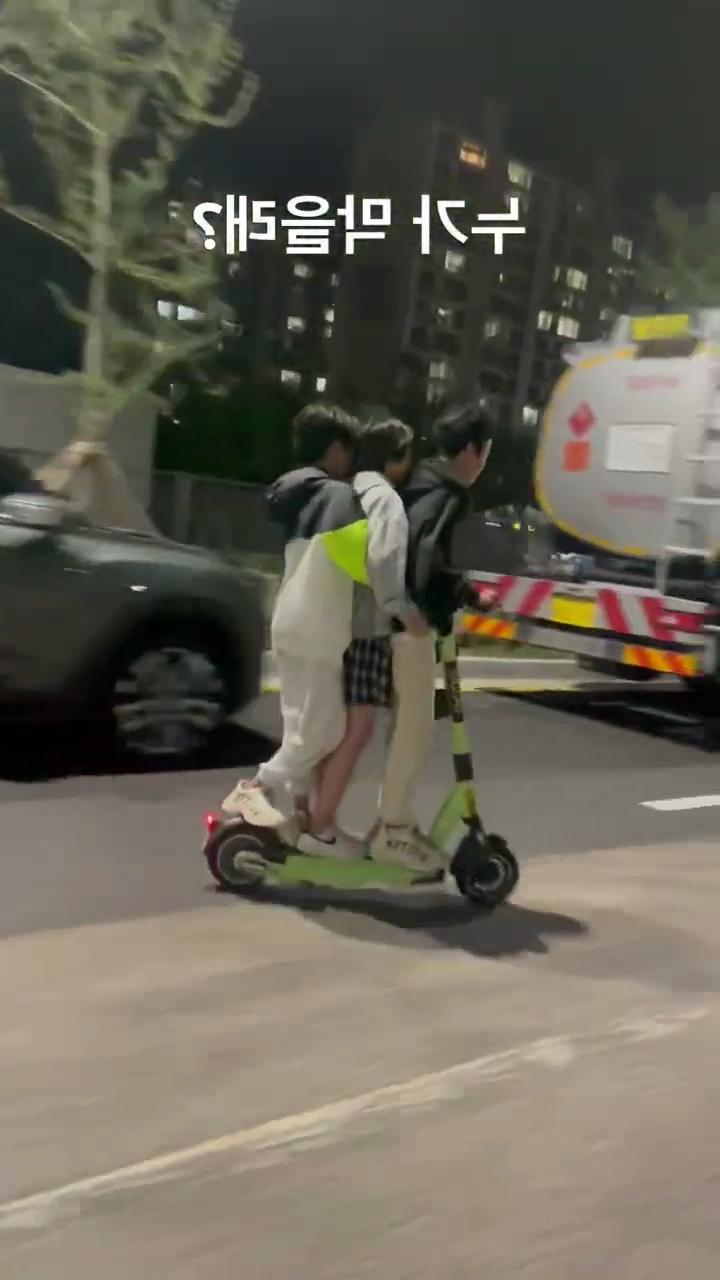multiple: (195, 387, 526, 921)
